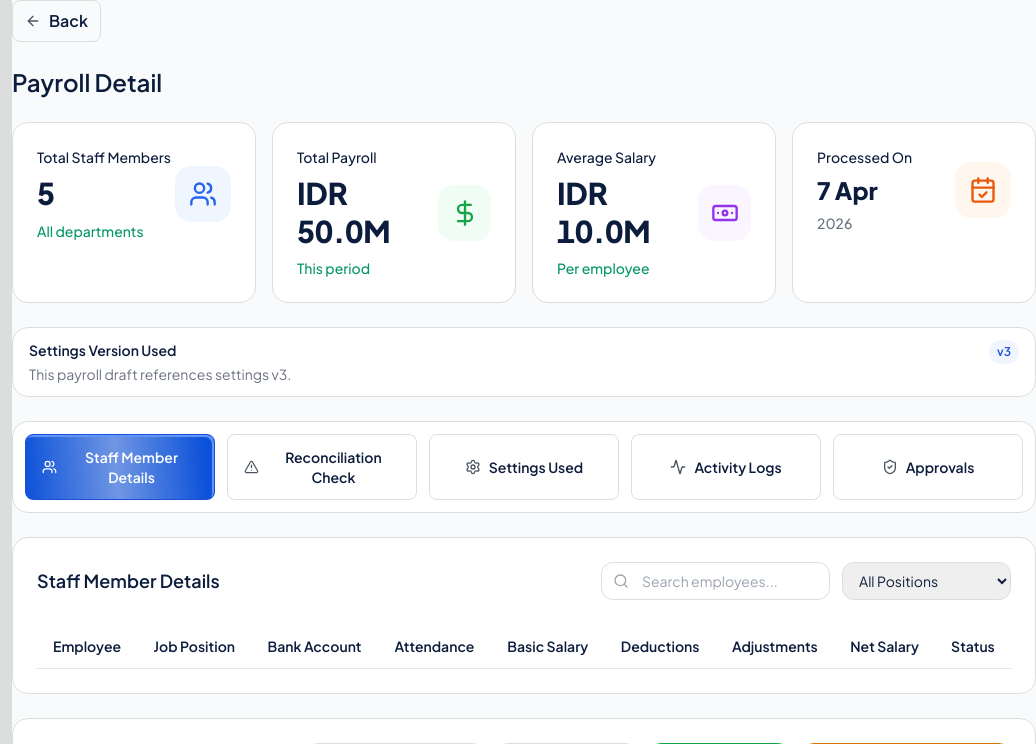
Test case: PayrollReconciliation resolve modal › renders resolve button on unresolved exceptions for users with payroll-process permission
// Switch to reconciliation tab
Step 1. Click the button with test id "tab-reconciliation" → point(322, 467), box [227,434,417,500]
(page scrolled)
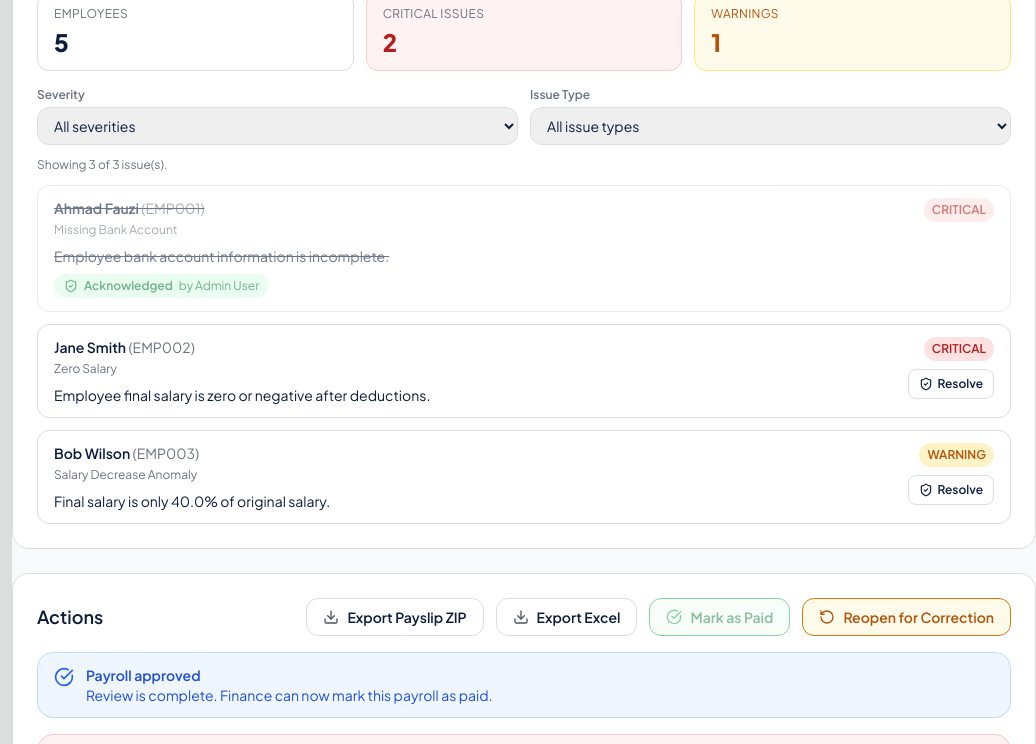
Expected: the button with test id "reconciliation-resolve-btn" is shown, [908,369,994,399]
